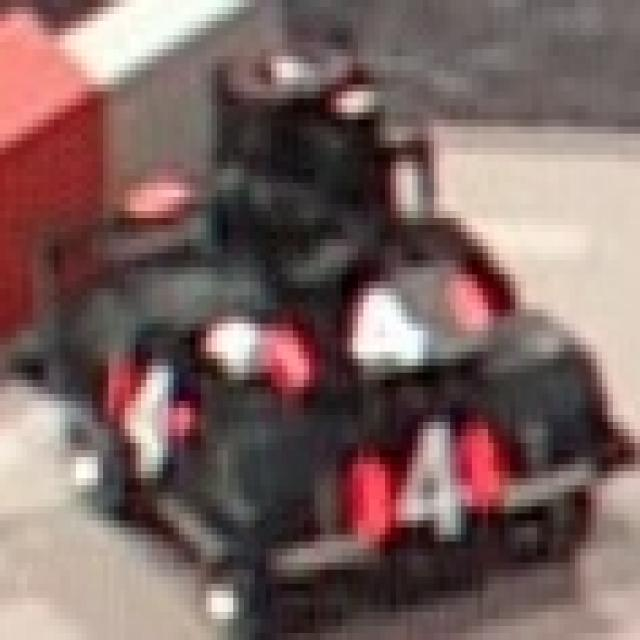R4: (266, 260, 488, 394), (342, 401, 510, 563), (98, 338, 200, 478)
